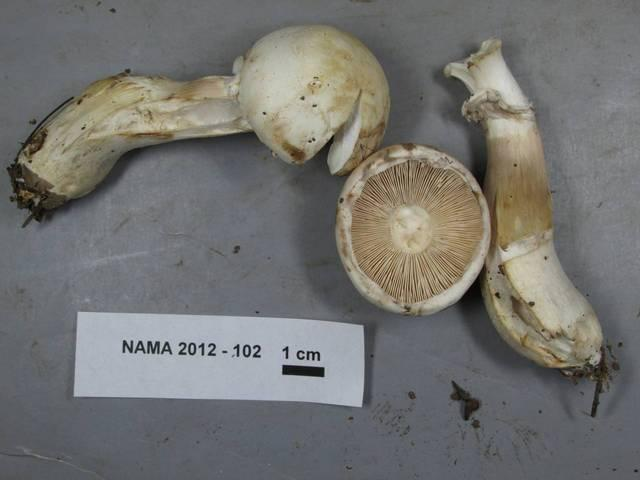Non-edible Mushroom: (6, 22, 391, 227), (441, 35, 609, 380), (333, 141, 491, 317)
